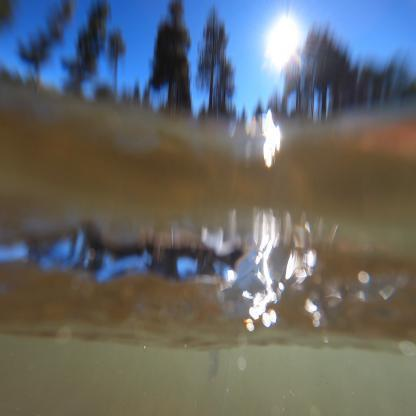Rác: (204, 345, 233, 407)
